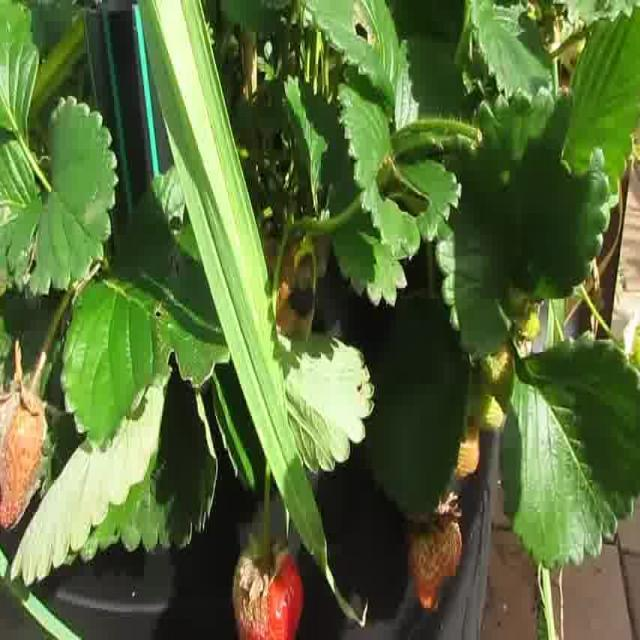Fruta sana: (410, 510, 464, 612), (478, 336, 515, 406), (472, 381, 510, 434), (449, 416, 481, 478), (510, 292, 541, 342)
Moho gris: (0, 384, 48, 530), (230, 547, 304, 640)
